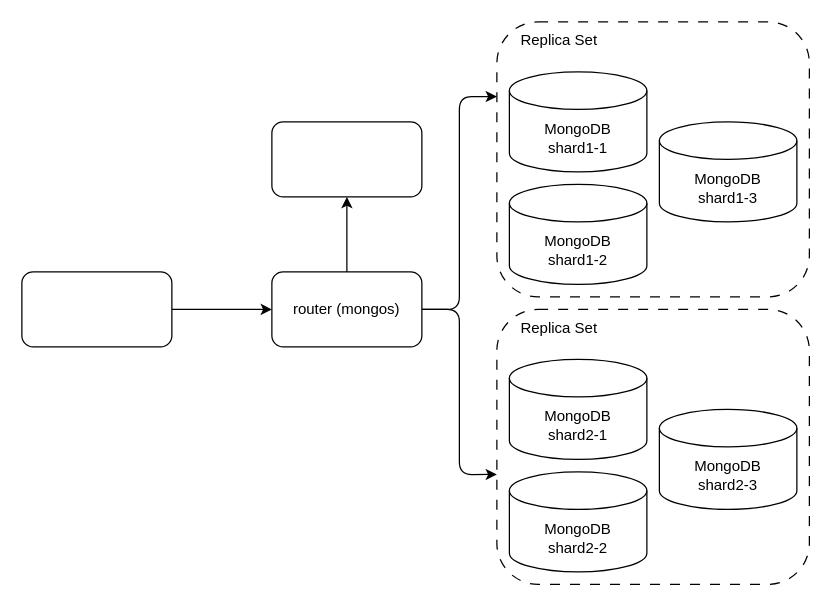
This 831x606 diagram has some shape labels left out. The centre of each missing label's shape, as x and y in pixels:
configSrv: (x=346, y=159)
pymongo-api: (x=96, y=309)
